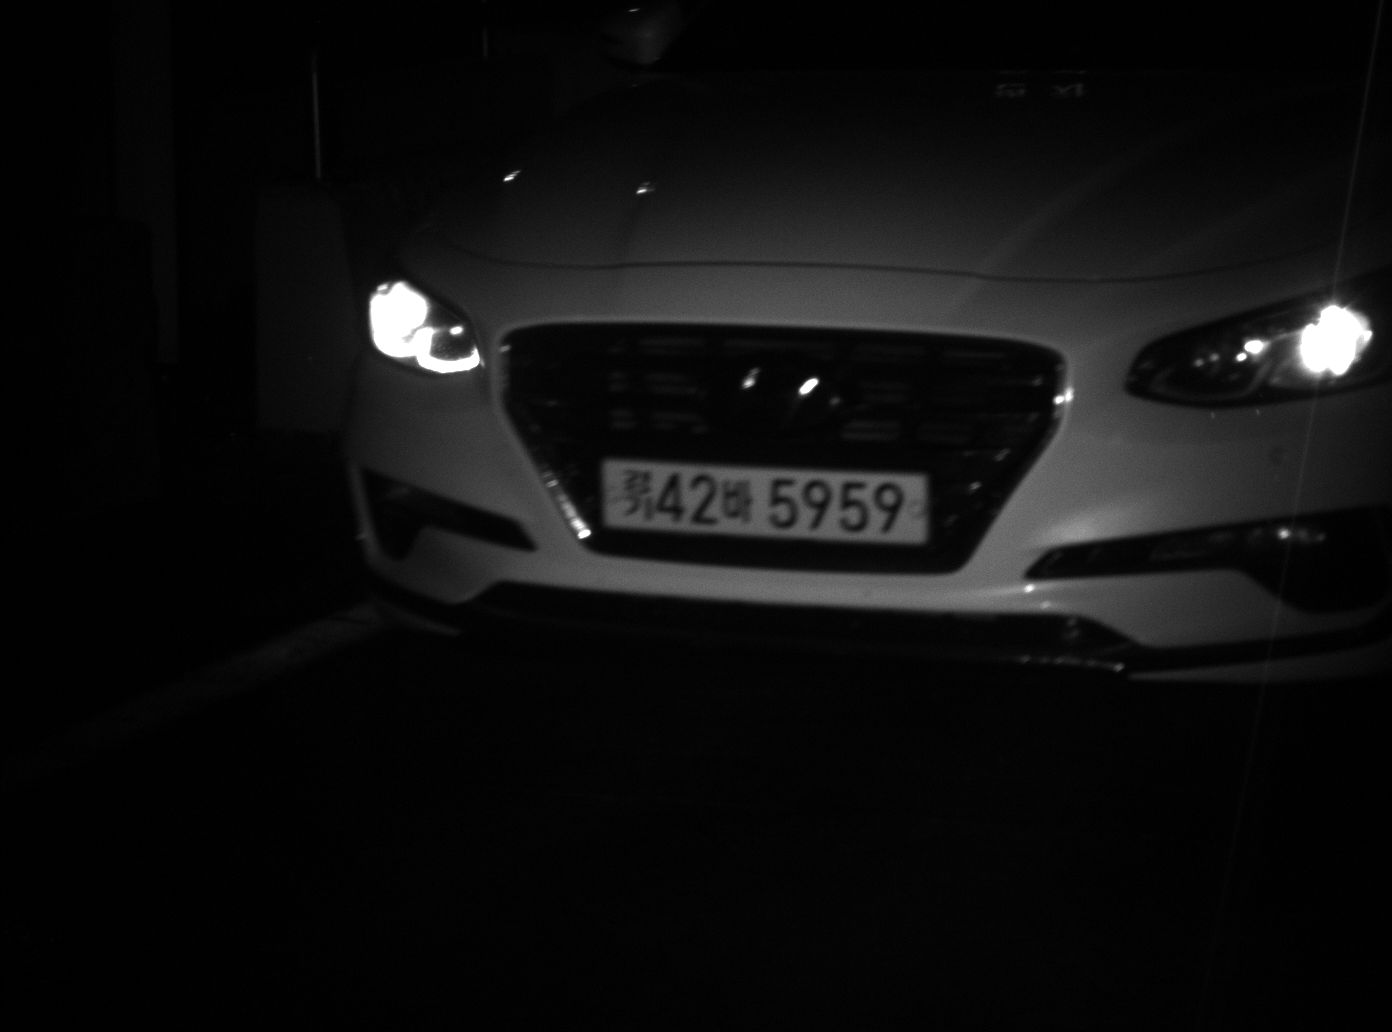car: (326, 1, 1387, 724)
plate: (597, 456, 932, 549)
